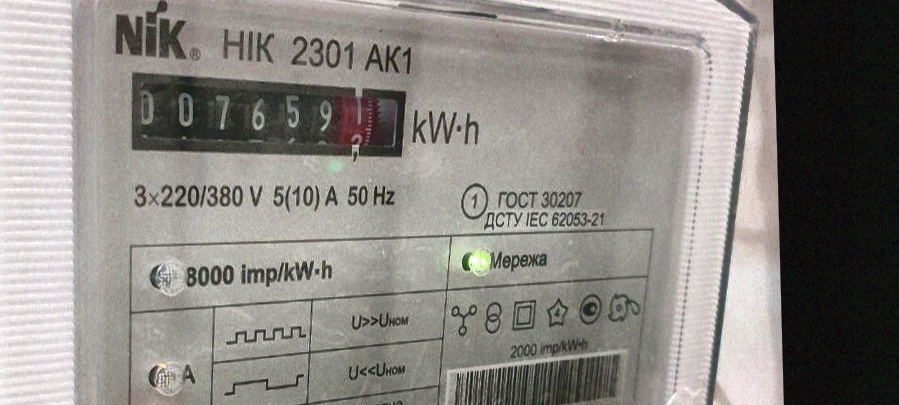0: (172, 87, 197, 129), (133, 86, 157, 127)
1: (350, 95, 367, 128)
5: (281, 92, 302, 130)
6: (247, 94, 269, 133)
7: (211, 92, 231, 132)
9: (316, 97, 334, 134)
screen: (120, 56, 416, 182)
